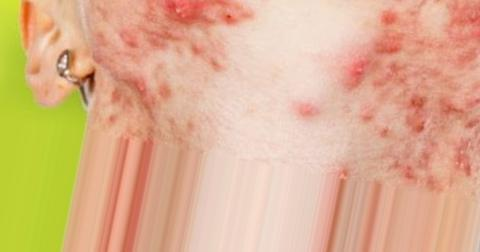Acne: (437, 64, 479, 176), (398, 151, 444, 191), (380, 58, 431, 92), (98, 89, 136, 127), (191, 31, 224, 73), (141, 17, 179, 48), (156, 0, 208, 21), (127, 66, 158, 101), (338, 61, 373, 92), (449, 2, 479, 38), (289, 91, 321, 123), (386, 116, 431, 136), (371, 31, 402, 57), (114, 30, 141, 53), (402, 94, 431, 112), (216, 7, 240, 26), (382, 5, 394, 29)
